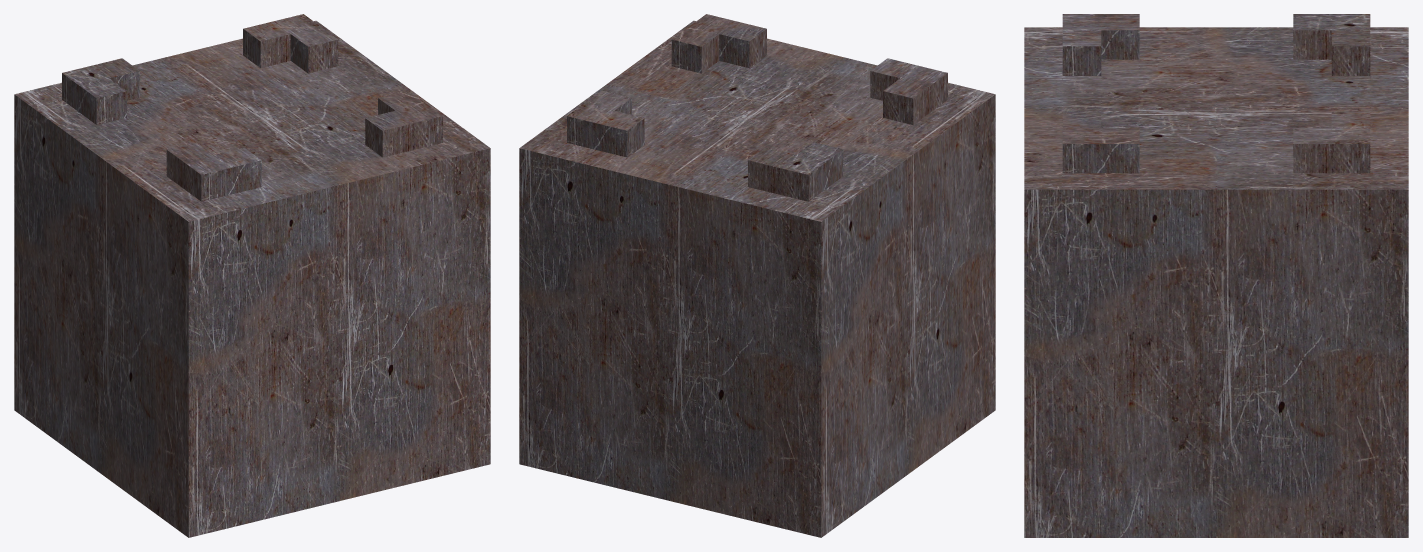
File: levelTester.FBX
3 views of the same model, side by side, from view 1: azimuth 30°, elevation 25°; view 2: azimuth 150°, elevation 25°; view 3: azimuth 270°, elevation 25° (orthographic). The views are drawn at different scales.
Parts seen in each view (by area): view 1: Box01; view 2: Box01; view 3: Box01.
Part boxes in pixels (left/top/right/bottom): Box01: left=14, top=14, right=490, bottom=537; Box01: left=519, top=14, right=995, bottom=537; Box01: left=1024, top=14, right=1408, bottom=537.
Bounding box in the file's own units: 200 × 200 × 217.
1 material, 1 textured.
